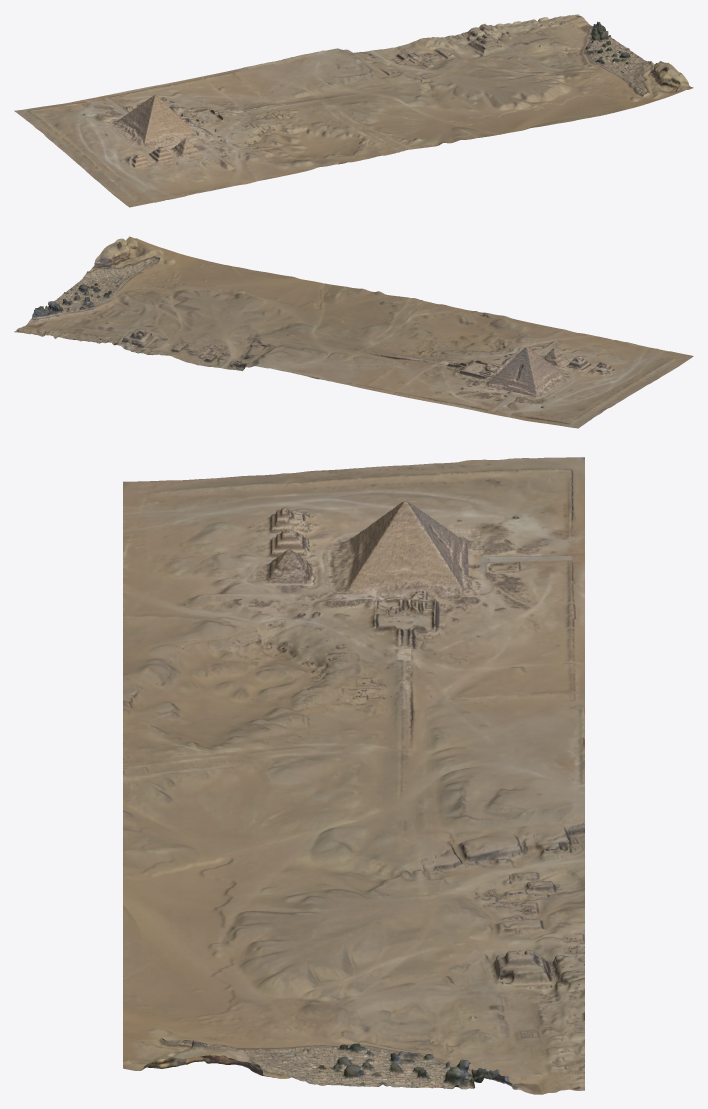
The picture shows the model from 3 angles, top to bottom: view 1: azimuth 30°, elevation 25°; view 2: azimuth 150°, elevation 25°; view 3: azimuth 270°, elevation 25°; orthographic projection. The views are drawn at different scales.
Parts seen in each view (by area): view 1: EGY_001_M7_MykerinosValley; view 2: EGY_001_M7_MykerinosValley; view 3: EGY_001_M7_MykerinosValley.
Boxes of the visible parts, left/top/right/bottom form: EGY_001_M7_MykerinosValley: left=14, top=14, right=693, bottom=207; EGY_001_M7_MykerinosValley: left=14, top=236, right=693, bottom=428; EGY_001_M7_MykerinosValley: left=123, top=457, right=584, bottom=1094.
Size of the model in its own units: 1090 by 126 by 386.
1 material, 1 textured.
